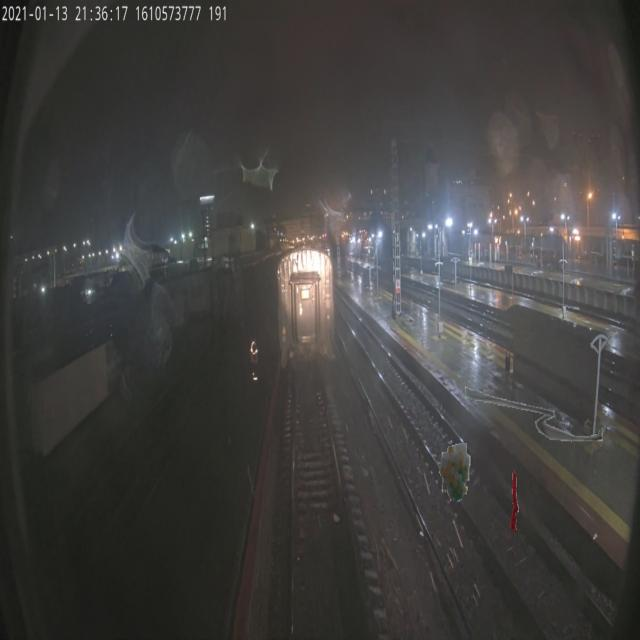balloon: (439, 438, 470, 502)
floating object: (464, 382, 603, 446), (510, 470, 519, 534)
